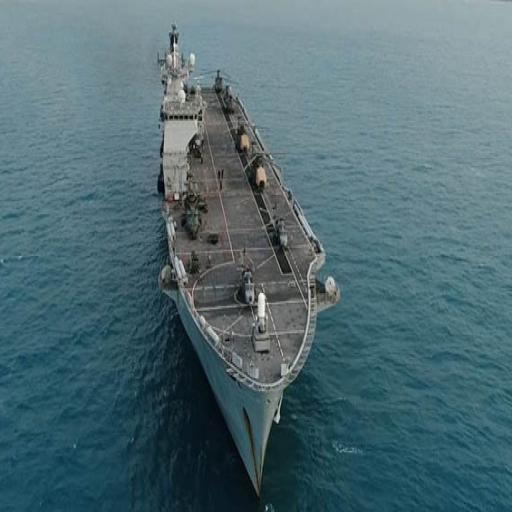Portanaves: (158, 17, 342, 499)
